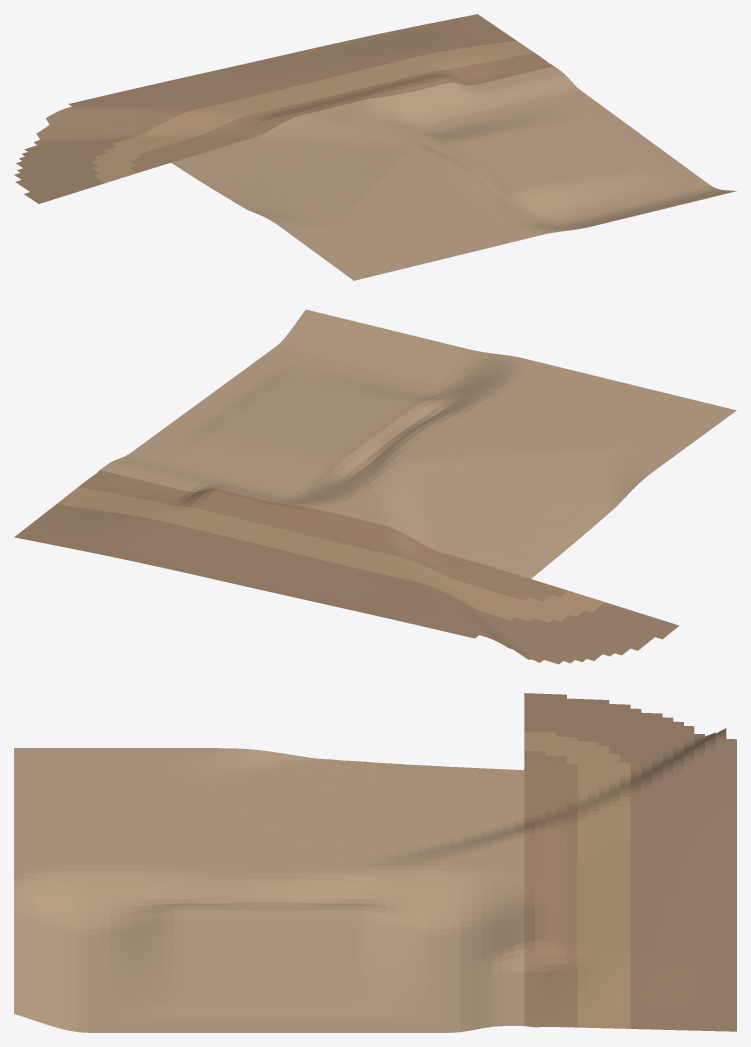
File: RECEPTION-EARTHWORK-V21.glb
3 renders of one model, top to bottom at view 1: azimuth 30°, elevation 25°; view 2: azimuth 150°, elevation 25°; view 3: azimuth 270°, elevation 25°, orthographic. The views are drawn at different scales.
Visible parts, largest first — view 1: RECEPTION-EARTHWORK-V21_CREST, RECEPTION-EARTHWORK-V21_TOE_SLOPE, RECEPTION-EARTHWORK-V21_BERM, RECEPTION-EARTHWORK-V21_UPPER_SLOPE; view 2: RECEPTION-EARTHWORK-V21_CREST, RECEPTION-EARTHWORK-V21_TOE_SLOPE, RECEPTION-EARTHWORK-V21_BERM, RECEPTION-EARTHWORK-V21_UPPER_SLOPE; view 3: RECEPTION-EARTHWORK-V21_CREST, RECEPTION-EARTHWORK-V21_TOE_SLOPE, RECEPTION-EARTHWORK-V21_BERM, RECEPTION-EARTHWORK-V21_UPPER_SLOPE.
Boxes of the visible parts, x1,y1,x2,y2 form: RECEPTION-EARTHWORK-V21_CREST: [171, 66, 736, 280]; RECEPTION-EARTHWORK-V21_TOE_SLOPE: [14, 14, 515, 203]; RECEPTION-EARTHWORK-V21_BERM: [92, 40, 534, 183]; RECEPTION-EARTHWORK-V21_UPPER_SLOPE: [130, 53, 553, 172]; RECEPTION-EARTHWORK-V21_CREST: [100, 309, 736, 578]; RECEPTION-EARTHWORK-V21_TOE_SLOPE: [14, 504, 679, 664]; RECEPTION-EARTHWORK-V21_BERM: [57, 487, 604, 622]; RECEPTION-EARTHWORK-V21_UPPER_SLOPE: [78, 470, 567, 601]; RECEPTION-EARTHWORK-V21_CREST: [14, 748, 524, 1032]; RECEPTION-EARTHWORK-V21_TOE_SLOPE: [524, 693, 736, 1031]; RECEPTION-EARTHWORK-V21_BERM: [524, 731, 630, 1028]; RECEPTION-EARTHWORK-V21_UPPER_SLOPE: [524, 750, 577, 1027].
Size of the model in its own units: 78 by 3.88 by 68.
